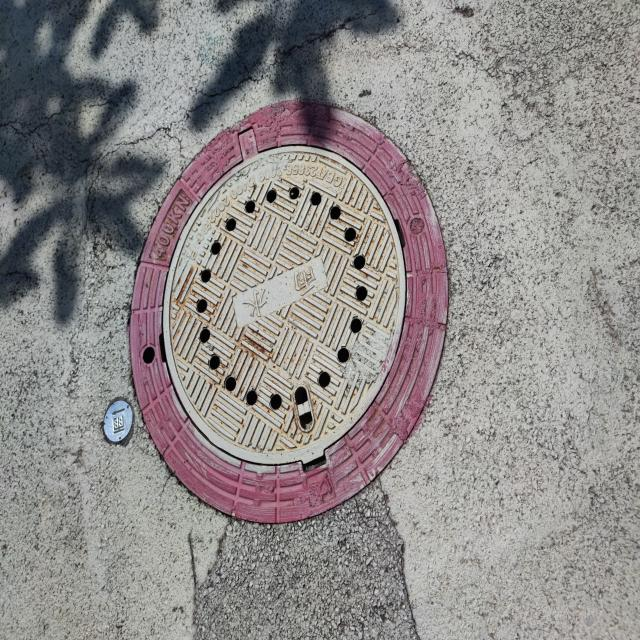Good: (124, 97, 454, 526)
